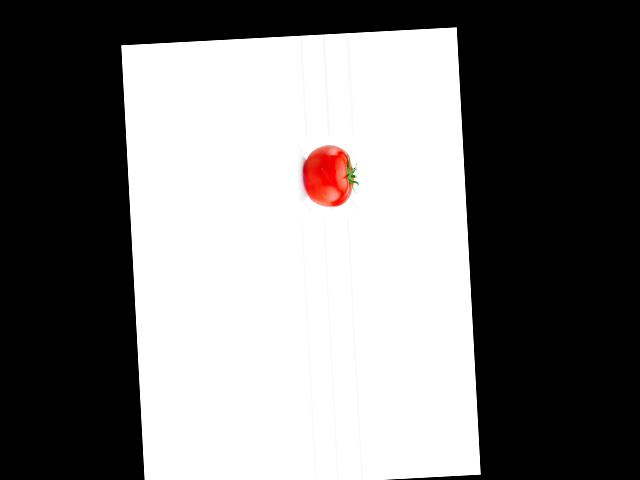tomato: (303, 144, 354, 208)
